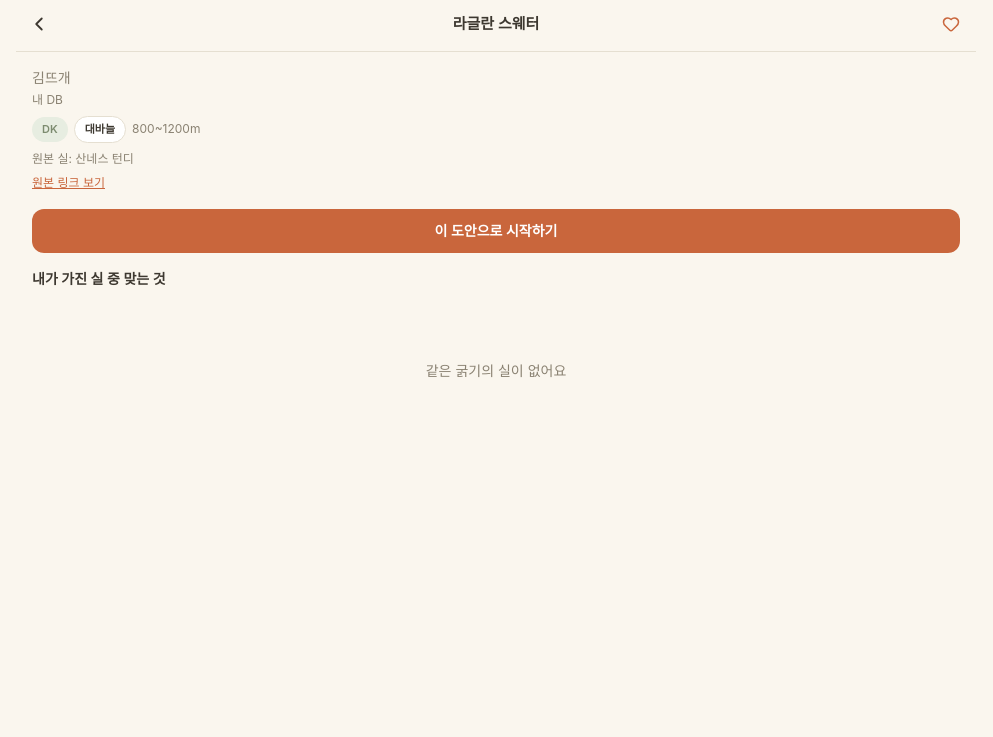
Test: PatternDetailPage 프로젝트 시작 › 확인에 실패하면 사유를 토스트로 보여주고 다시 누를 수 있다
Expected: the text "김뜨개" is shown, [32,69,71,86]
Click the button "이 도안으로 시작하기" at (496, 230), box [32,208,960,252]
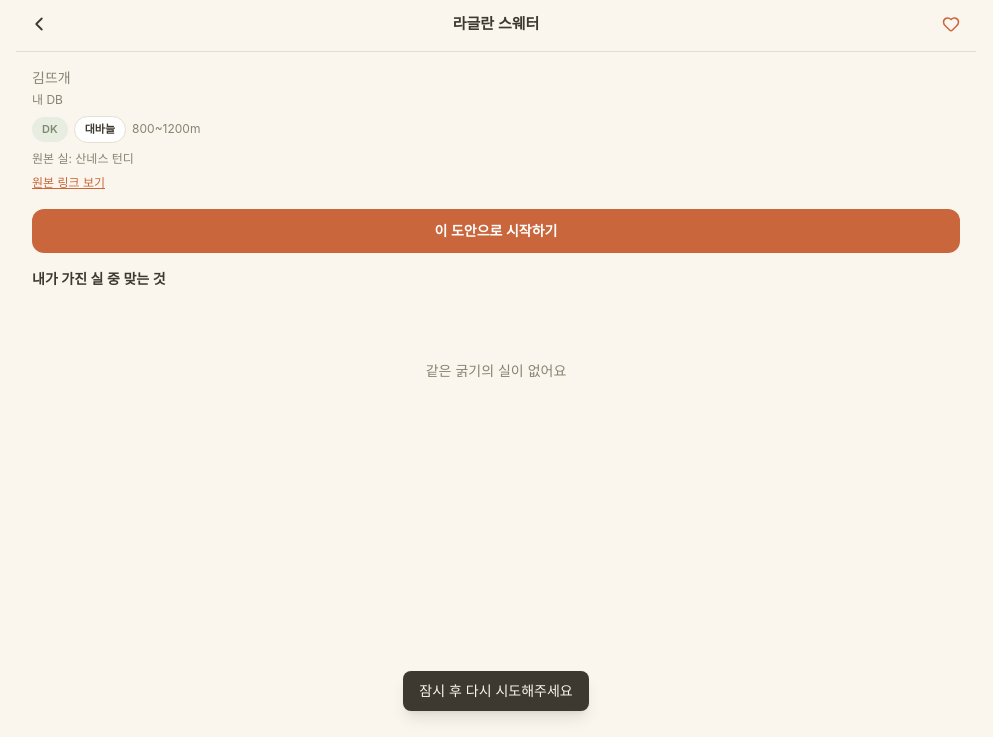
Expected: the message reads "잠시 후 다시 시도해주세요", [419,682,573,699]
